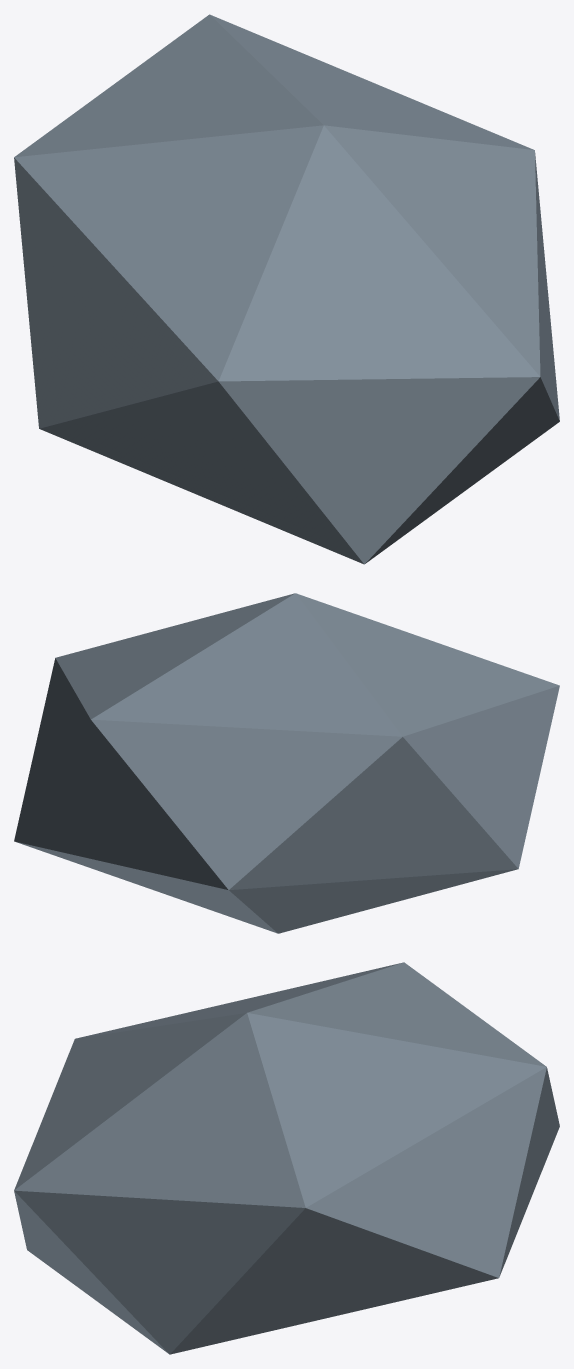
The model's file is INT_AB_RubbleNorth_00_Stone_3.glb.
The picture shows the model from 3 angles, top to bottom: view 1: azimuth 30°, elevation 25°; view 2: azimuth 150°, elevation 25°; view 3: azimuth 270°, elevation 25°; orthographic projection. The views are drawn at different scales.
Visible parts, largest first — view 1: INT_AB_RubbleNorth_00_Stone_3; view 2: INT_AB_RubbleNorth_00_Stone_3; view 3: INT_AB_RubbleNorth_00_Stone_3.
Part boxes in pixels (x1=…): INT_AB_RubbleNorth_00_Stone_3: x1=14, y1=14, x2=559, y2=564; INT_AB_RubbleNorth_00_Stone_3: x1=14, y1=593, x2=559, y2=933; INT_AB_RubbleNorth_00_Stone_3: x1=14, y1=962, x2=559, y2=1354.
Bounding box in the file's own units: 0.1594 × 0.1047 × 0.1713.
